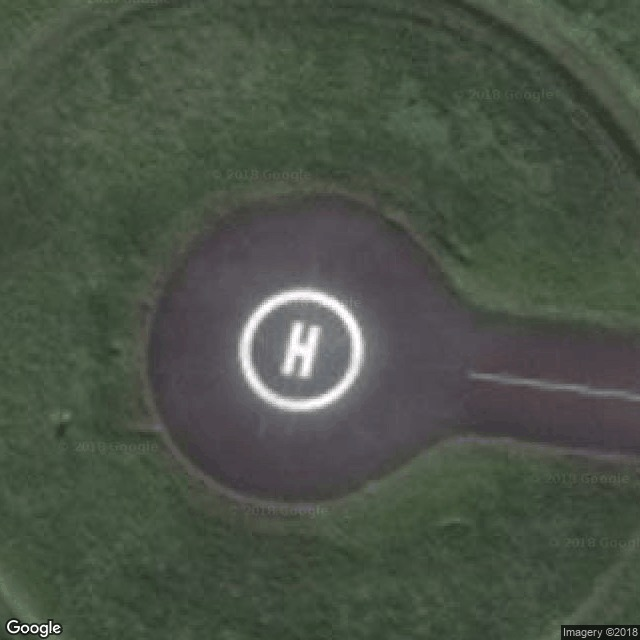heliport: (269, 314, 330, 385)
